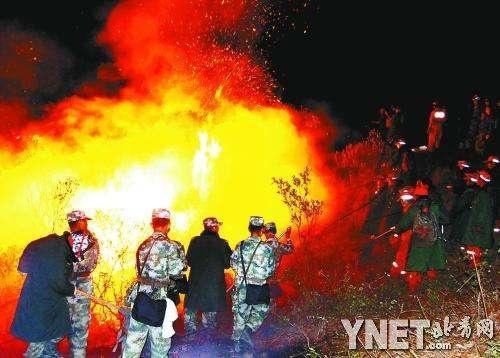fire: (2, 10, 330, 299)
